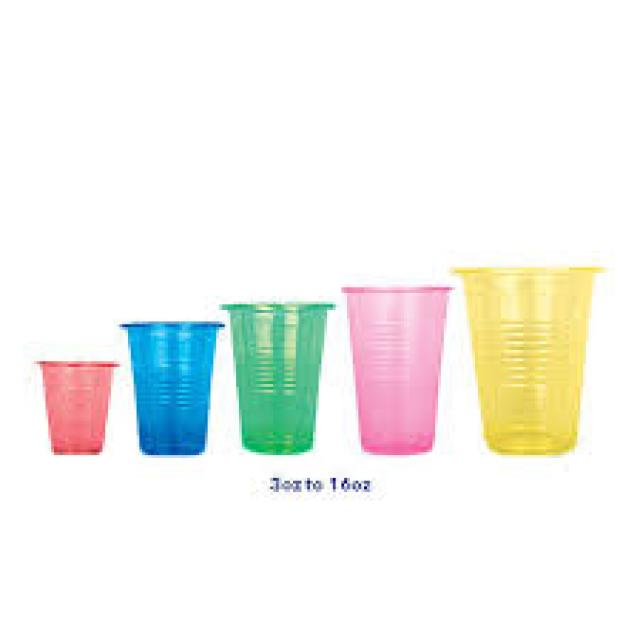cup: (425, 225, 619, 486), (337, 268, 461, 472), (207, 272, 332, 471), (103, 300, 231, 471), (28, 339, 126, 479)
